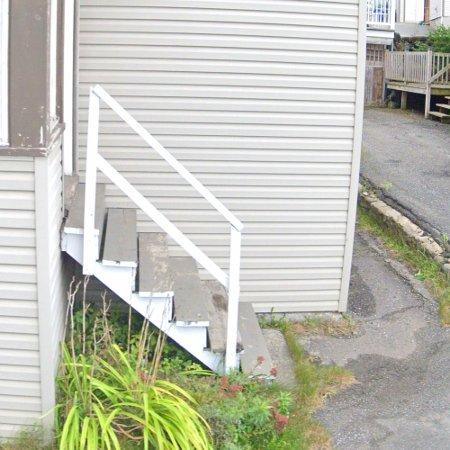stairs: (94, 185, 228, 374), (240, 303, 294, 386), (62, 177, 84, 264)
